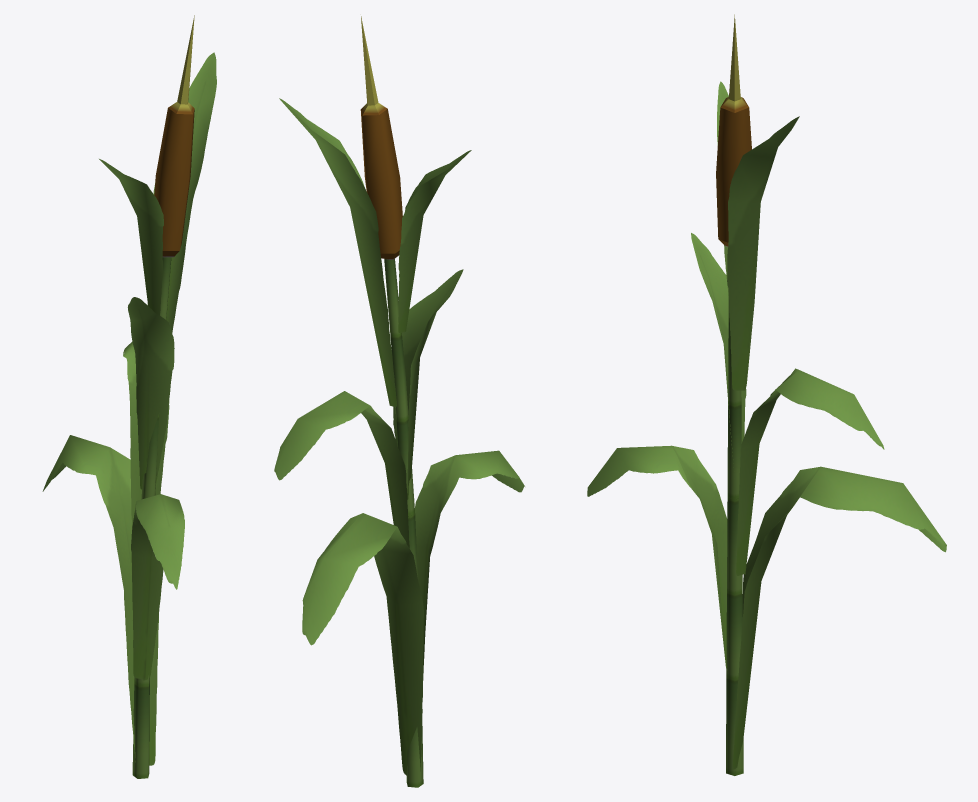
The model's file is Ctn_Reed_01_v01.FBX.
The picture shows the model from 3 angles, left to right: view 1: azimuth 30°, elevation 25°; view 2: azimuth 150°, elevation 25°; view 3: azimuth 270°, elevation 25°; orthographic projection. The views are drawn at different scales.
Parts seen in each view (by area): view 1: Ctn_Reed_01_v01; view 2: Ctn_Reed_01_v01; view 3: Ctn_Reed_01_v01.
Part boxes in pixels (box(x1,y1,x2,y2)): Ctn_Reed_01_v01: box(42, 15, 216, 778); Ctn_Reed_01_v01: box(274, 16, 524, 787); Ctn_Reed_01_v01: box(587, 14, 946, 775).
Bounding box in the file's own units: 20.54 × 86.88 × 39.01.
